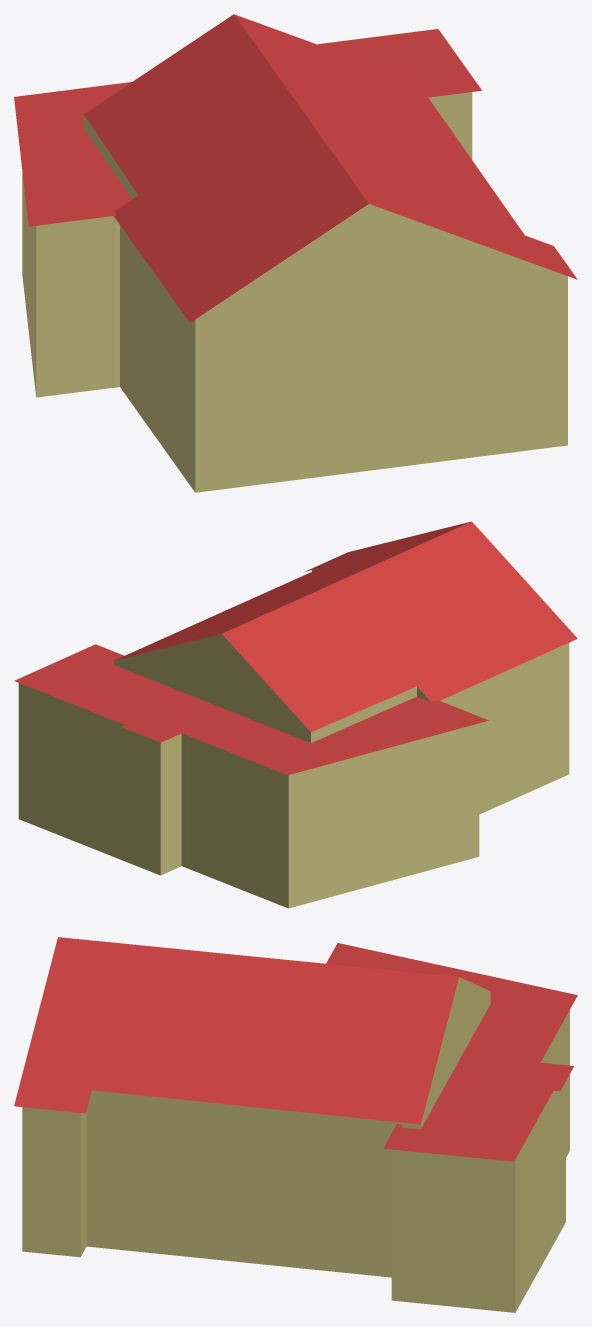
3 renders of one model, top to bottom at view 1: azimuth 30°, elevation 25°; view 2: azimuth 150°, elevation 25°; view 3: azimuth 270°, elevation 25°, orthographic. The views are drawn at different scales.
Size of the model in its own units: 18.38 by 20.02 by 9.31.
